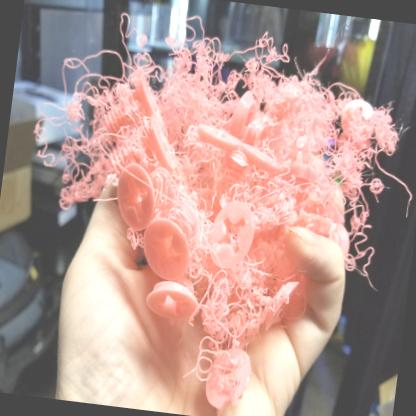fail: (7, 1, 416, 409)
